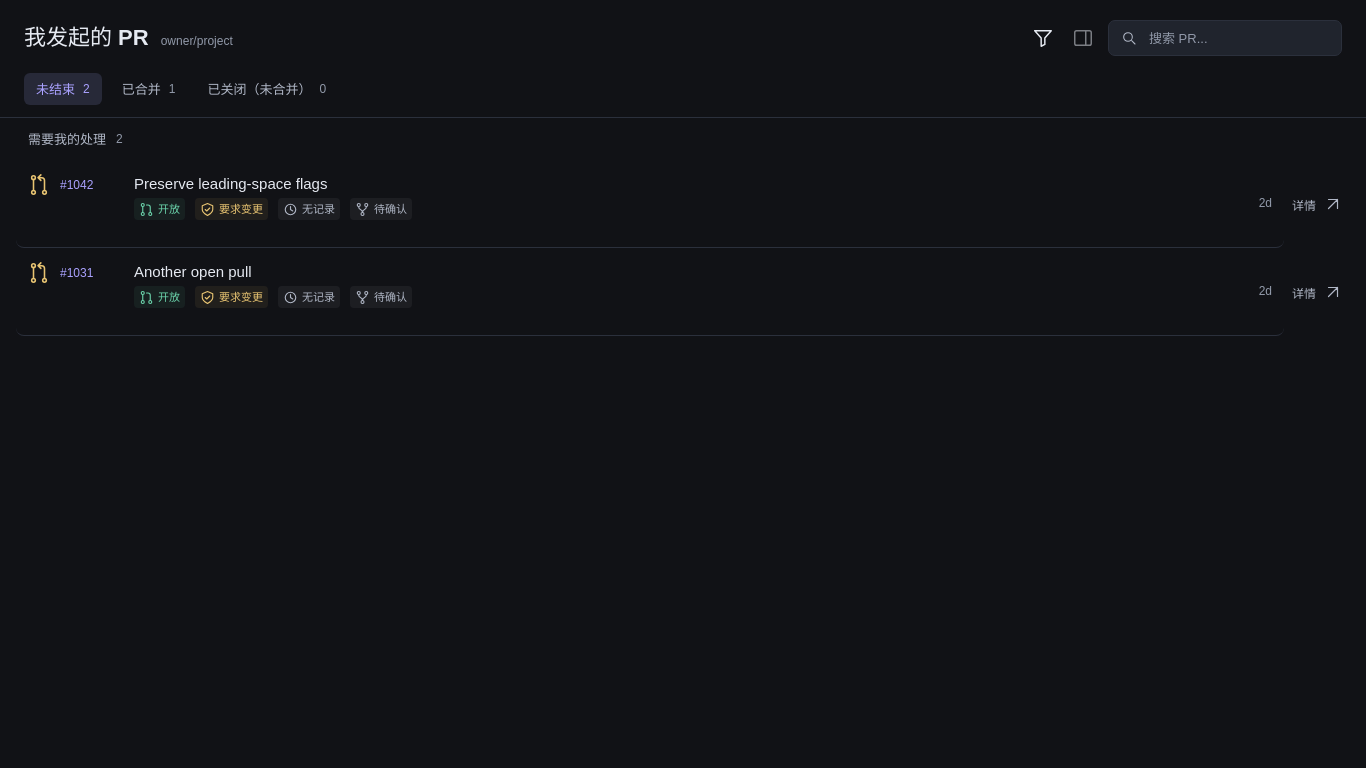
Test case: authored selection and filtering › does not offer an unrelated discussion when no rows match
The image size is (1366, 768).
Step 1. Click the button "#1031 Another open pull 开放 要求变更 无记录 待确认 2d" → (193, 272), box left=16, top=248, right=1284, bottom=336
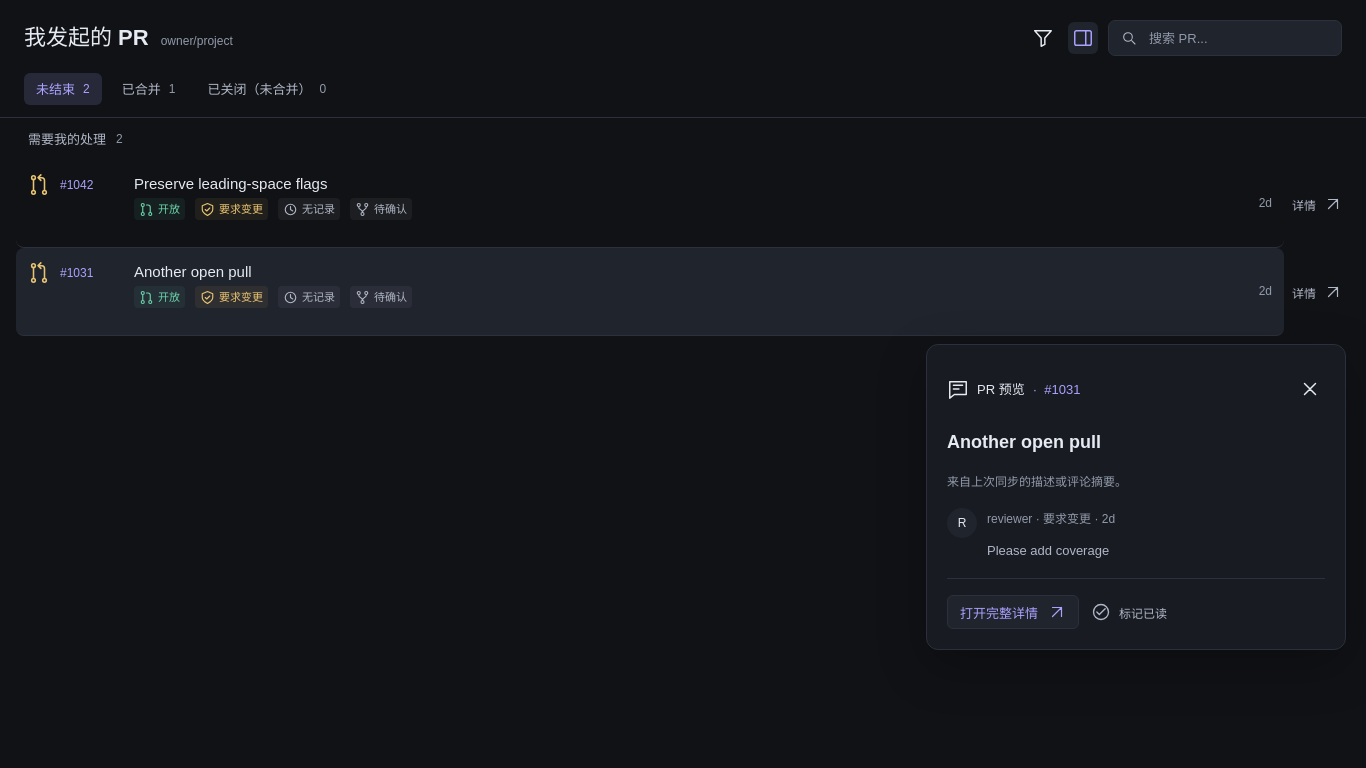
Step 2. Type "not-found" into the field labelled "搜索 PR" → (1238, 38), box left=1147, top=30, right=1329, bottom=46
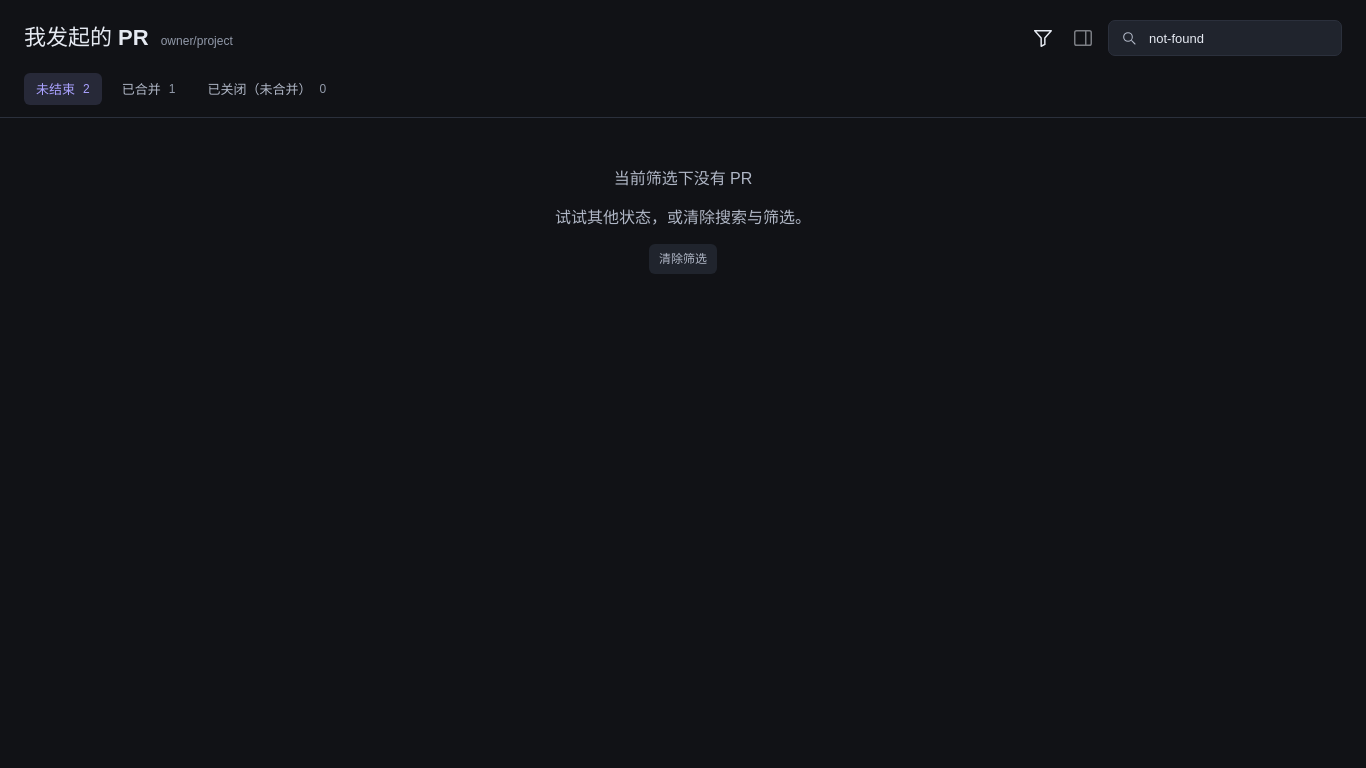
Now the heading "PR 预览" is gone
